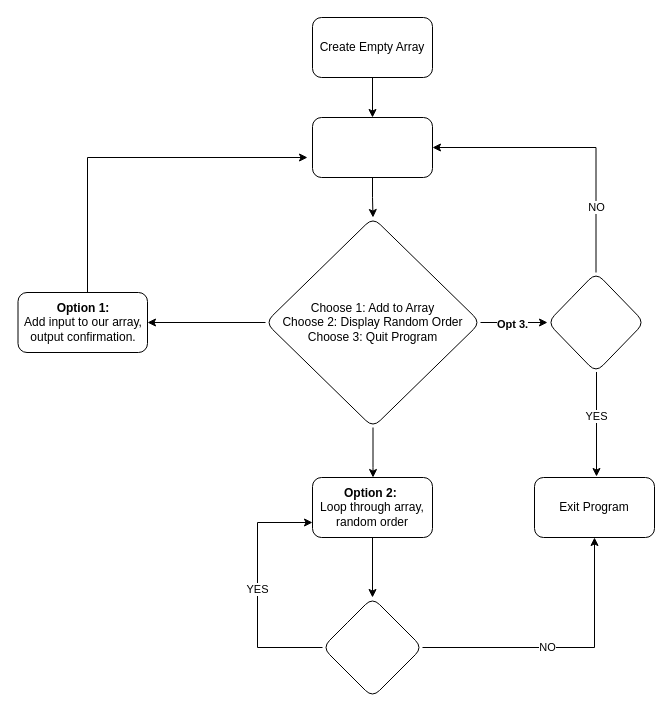
Image size: 672x715. Some labels were removed from this diagram. Here are the shapes that lost their labels. From the top down, the centre of each, then its label:
At [372,147]: "Output a Message, with messages".
At [595,322]: "Are you sure?".
At [372,647]: "Do Again?".
